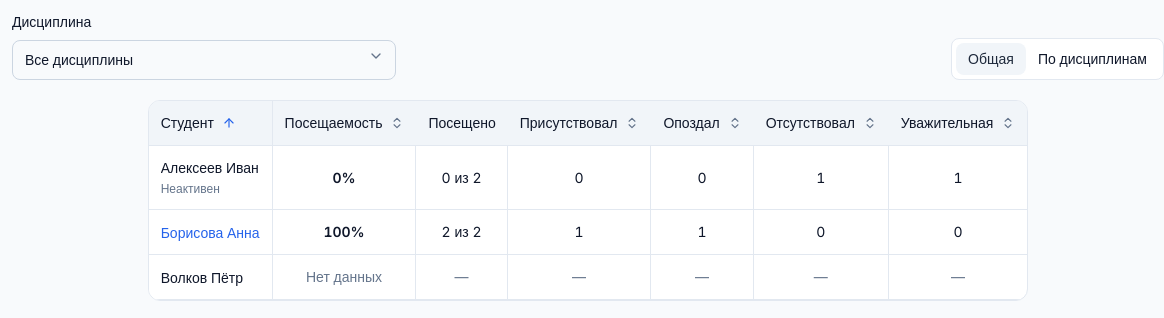
Test: IndividualAttendanceSummary › shows historical and no-data rows, recalculates the selected discipline
Expected: the text "Алексеев Иван" is shown, [161,158,259,177]
Expected: the text "Неактивен" is shown, [161,181,220,196]
Select "Математика" in the dropdown labelled "Дисциплина" at x=204, y=60, box [12,40,396,80]
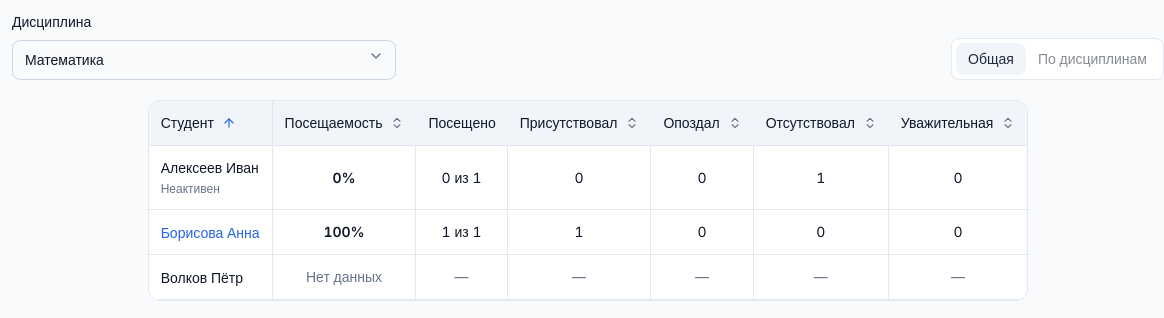
Expected: the element named "Представление сводной" is shown, [951,38,1163,80]
Result: the button "По дисциплинам" is disabled at [1026,43,1159,75]
Result: the text "1 из 1" is shown at [442,223,482,240]
